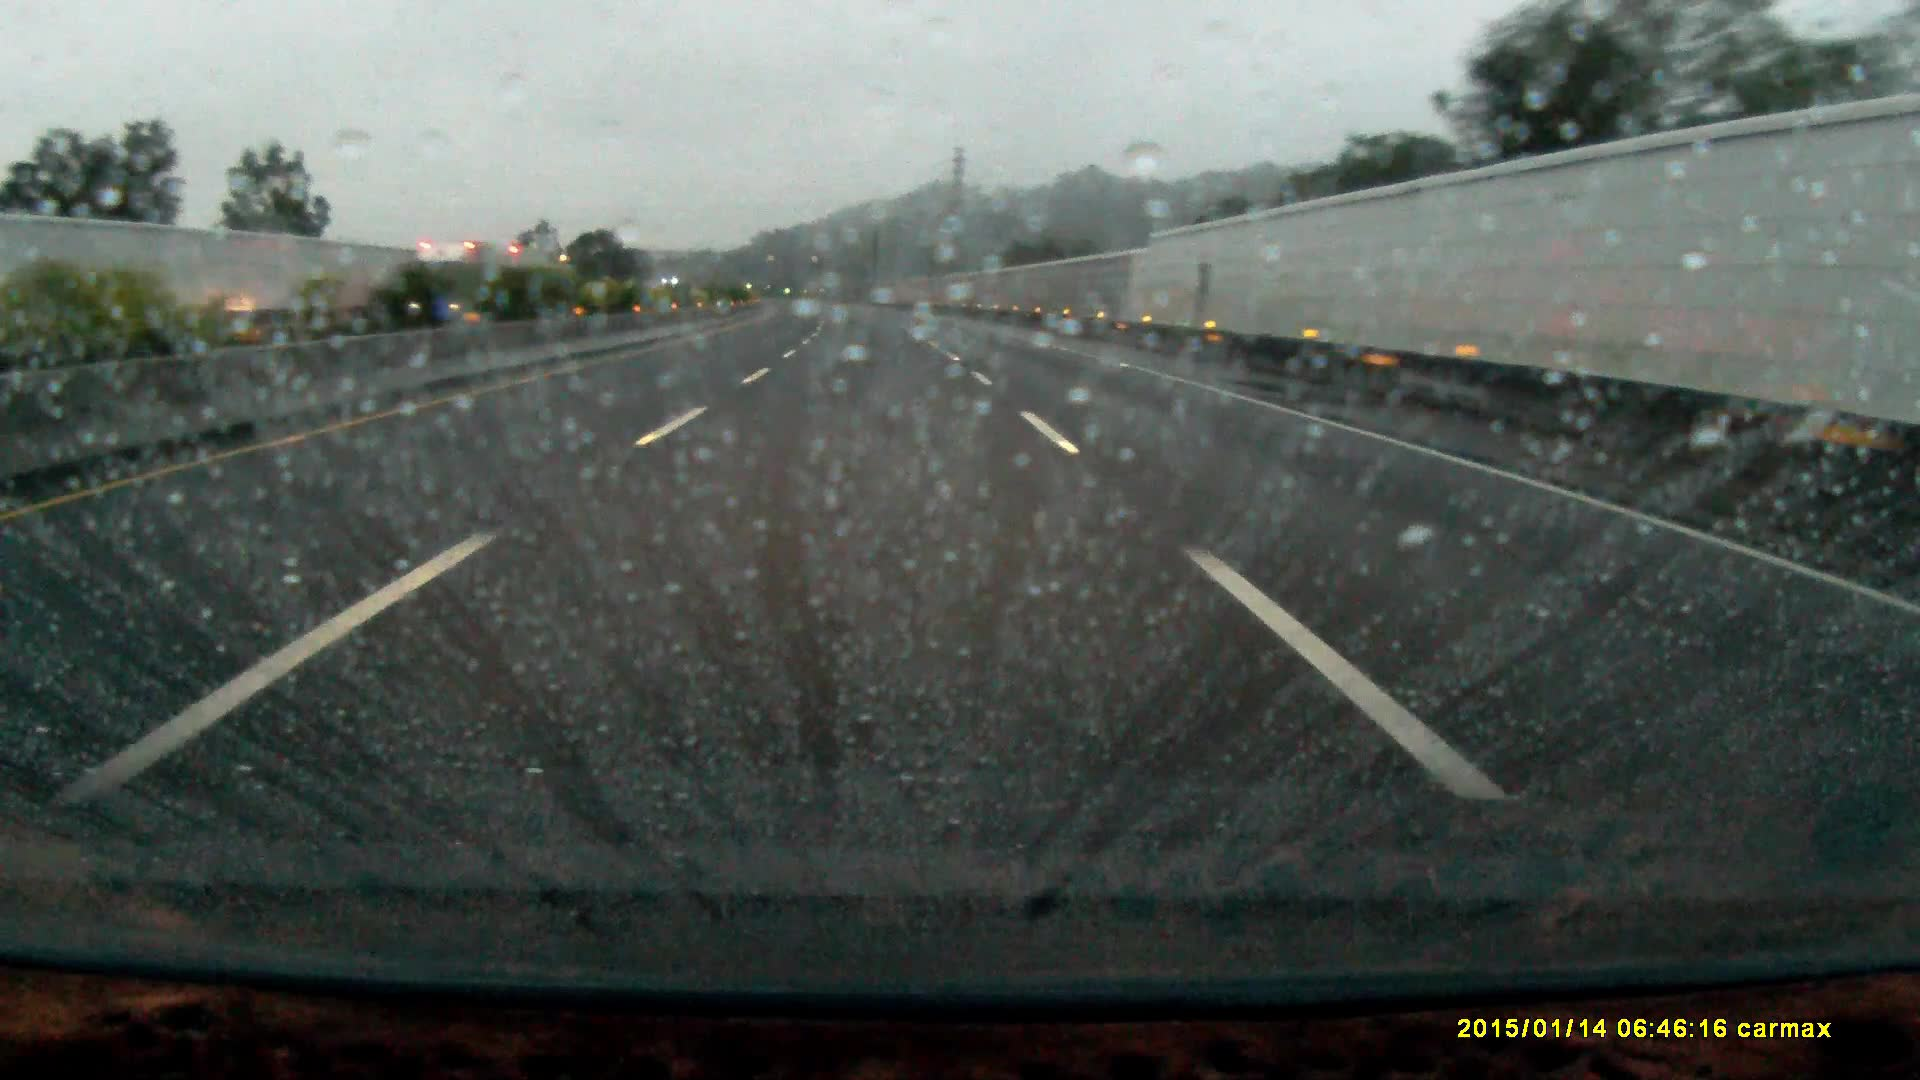vehicle: (405, 239, 543, 319)
